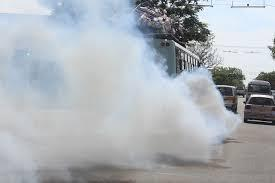smoke: (0, 0, 249, 178)
